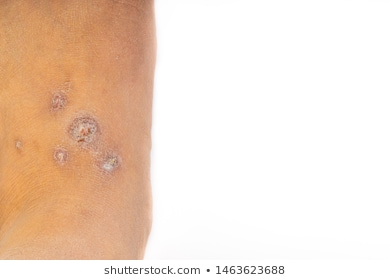Eczema: (23, 62, 135, 196)
